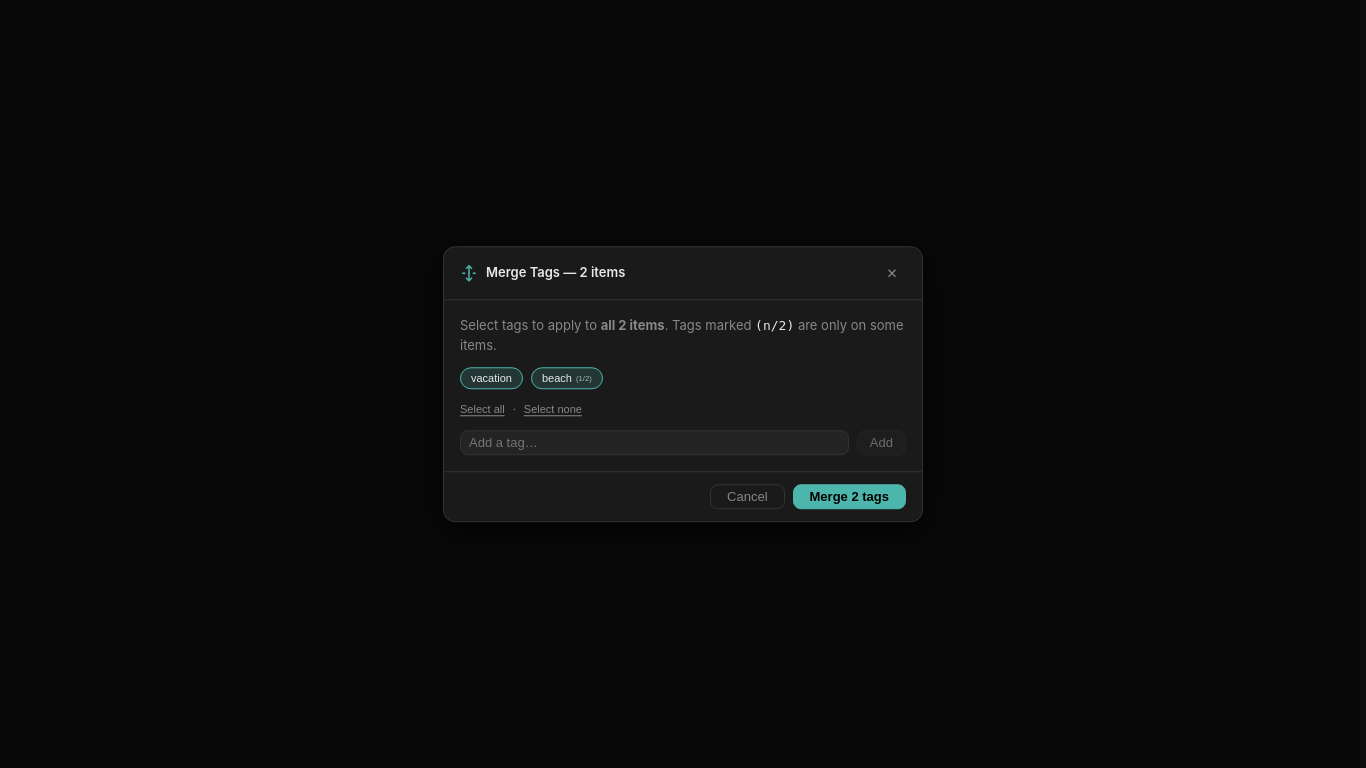
Test case: MergeTagsModal — merge confirmation › Merge button is disabled when no tags selected
Click the button "Select none" at (553, 410), box [524,404,582,416]
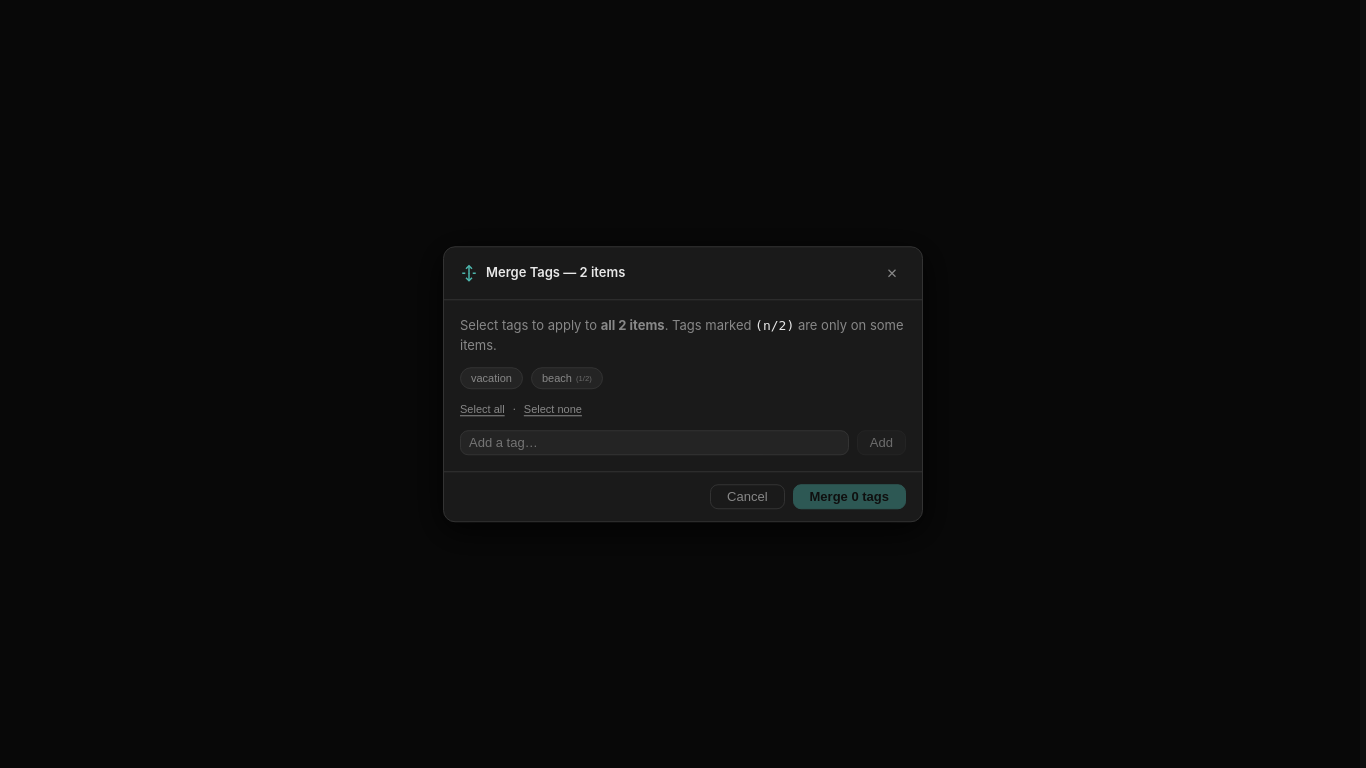
Now the button "Merge 0 tags" is disabled, box [792,484,906,509]
